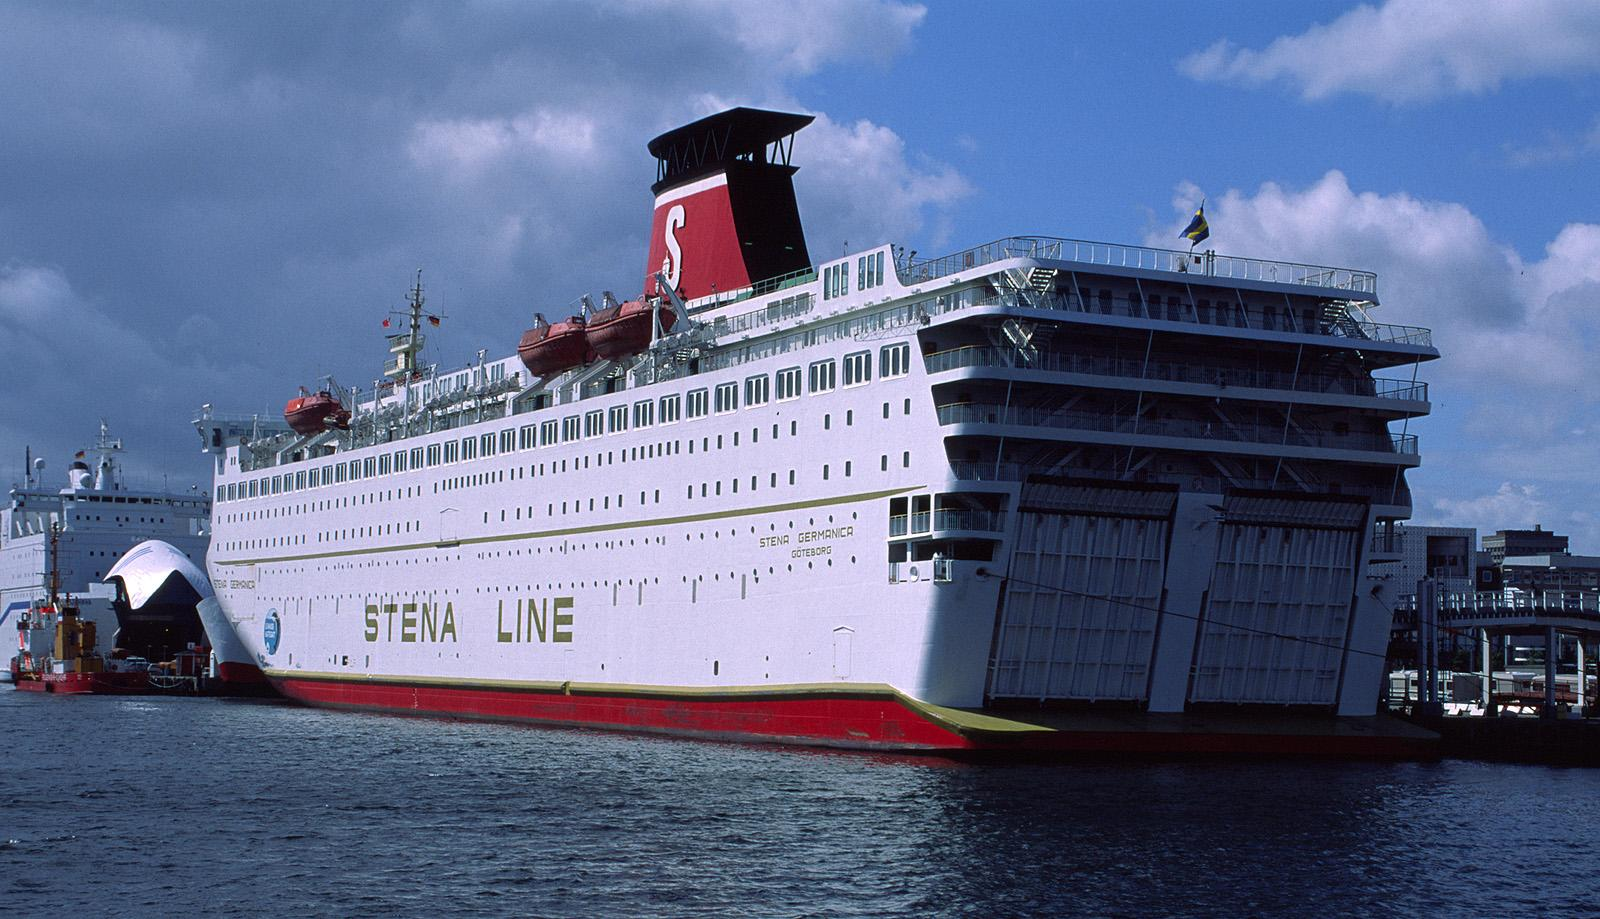youlun: (190, 106, 1426, 737)
